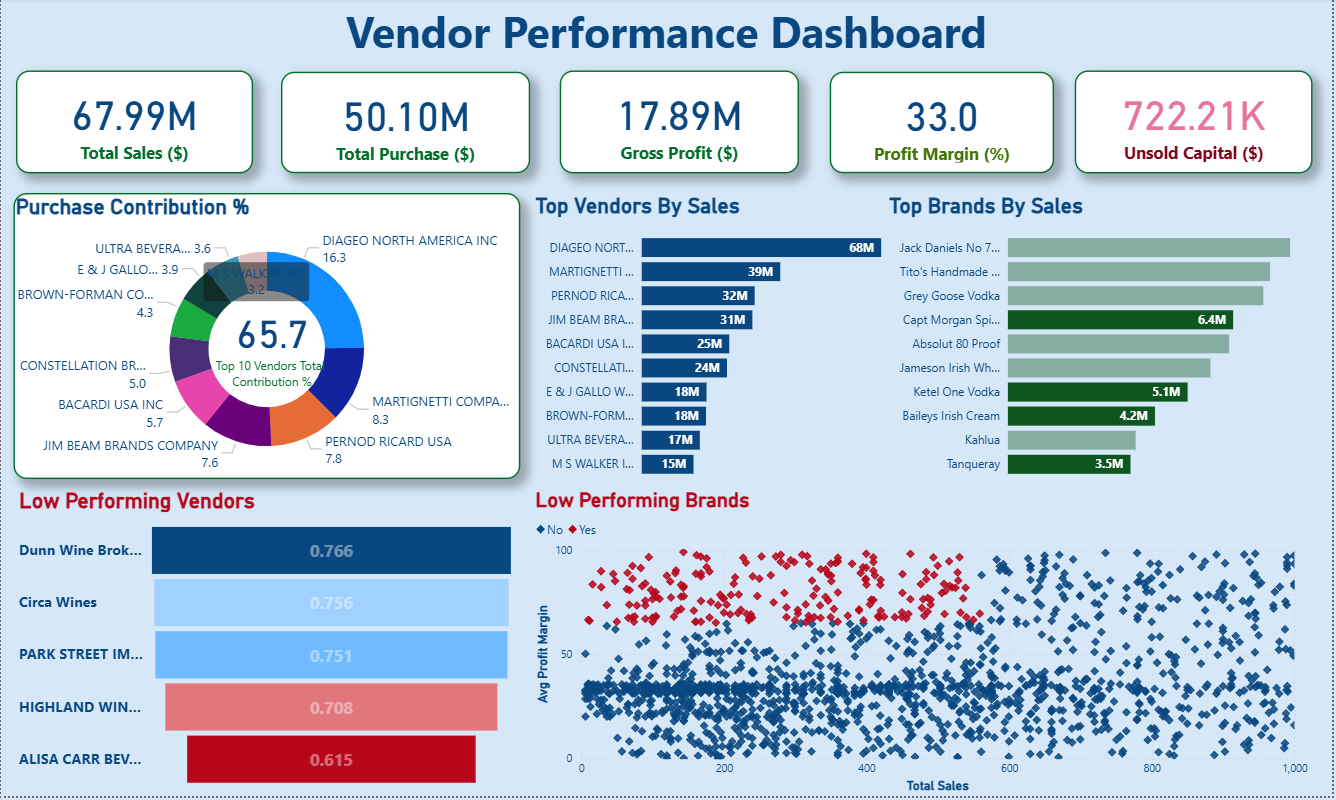

This screenshot's page, from the dashboard's own definition file:
{"tool":"powerbi","page":{"name":"Page 1","canvas":[1500,900],"ordinal":0},"visuals":[{"type":"card","fields":{"Values":["Sum(vendor_sales_summary.TotalPurchaseDollars)"]},"box":[315.8,82.4,280.9,114.6],"z":0},{"type":"card","fields":{"Values":["Sum(vendor_sales_summary.TotalSalesDollars)"]},"box":[16.8,81,266.9,116],"z":1000},{"type":"card","fields":{"Values":["Sum(vendor_sales_summary.GrossProfit)"]},"box":[630.2,81,269.7,116],"z":2000},{"type":"card","fields":{"Values":["Sum(vendor_sales_summary.ProfitMargin)"]},"box":[934.8,82.4,252.9,114.6],"z":3000},{"type":"card","fields":{"Values":["Sum(vendor_sales_summary.UnsoldCapital)"]},"box":[1210.1,81,268.3,116],"z":4000},{"type":"textbox","box":[0,0,1500,83],"z":5000},{"type":"donutChart","title":"Purchase Contribution % ","fields":{"Category":["PurchaseContribution.VendorName"],"Y":["Sum(PurchaseContribution.PurchaseContribution%)"]},"box":[14.5,219.4,571,322.6],"z":6000},{"type":"card","fields":{"Values":["Sum(PurchaseContribution.PurchaseContribution%)"]},"box":[211.8,266.7,188.2,233.3],"z":7000},{"type":"barChart","title":"Top Vendors By Sales","fields":{"Category":["vendor_sales_summary.VendorName"],"Y":["Sum(vendor_sales_summary.TotalSalesDollars)"]},"box":[597.3,219.2,447.9,332.9],"z":8000},{"type":"barChart","title":"Top Brands By Sales","fields":{"Category":["vendor_sales_summary.Description"],"Y":["Sum(vendor_sales_summary.TotalSalesDollars)"]},"box":[995.9,219.2,504.1,332.9],"z":9000},{"type":"funnel","title":"Low Performing Vendors","fields":{"Category":["LowTurnoverVendor.VendorName"],"Y":["Avg(LowTurnoverVendor.AvgStockTurnOver)"]},"box":[16.1,551.6,569.4,348.4],"z":10000},{"type":"scatterChart","title":"Low Performing Brands","fields":{"X":["Sum(BrandPerformance.TotalSales)"],"Y":["Sum(BrandPerformance.AvgProfitMargin)"],"Series":["BrandPerformance.TargetBrand"],"Category":["BrandPerformance.Description"]},"box":[596.8,551.6,880.6,348.4],"z":11000}]}

Visuals, with their boxes in screenshot pixels (x1, y1, x2, y2), scaled from the page's 1500x900 canvas onto the 1336x800 screenshot:
card - Sum(vendor_sales_summary.TotalPurchaseDollars): bbox=(281, 73, 531, 175)
card - Sum(vendor_sales_summary.TotalSalesDollars): bbox=(15, 72, 253, 175)
card - Sum(vendor_sales_summary.GrossProfit): bbox=(561, 72, 802, 175)
card - Sum(vendor_sales_summary.ProfitMargin): bbox=(833, 73, 1058, 175)
card - Sum(vendor_sales_summary.UnsoldCapital): bbox=(1078, 72, 1317, 175)
textbox: bbox=(0, 0, 1335, 74)
"Purchase Contribution % " donutChart: bbox=(13, 195, 521, 482)
card - Sum(PurchaseContribution.PurchaseContribution%): bbox=(189, 237, 356, 444)
"Top Vendors By Sales" barChart: bbox=(532, 195, 931, 491)
"Top Brands By Sales" barChart: bbox=(887, 195, 1335, 491)
"Low Performing Vendors" funnel: bbox=(14, 490, 521, 799)
"Low Performing Brands" scatterChart: bbox=(532, 490, 1316, 799)
